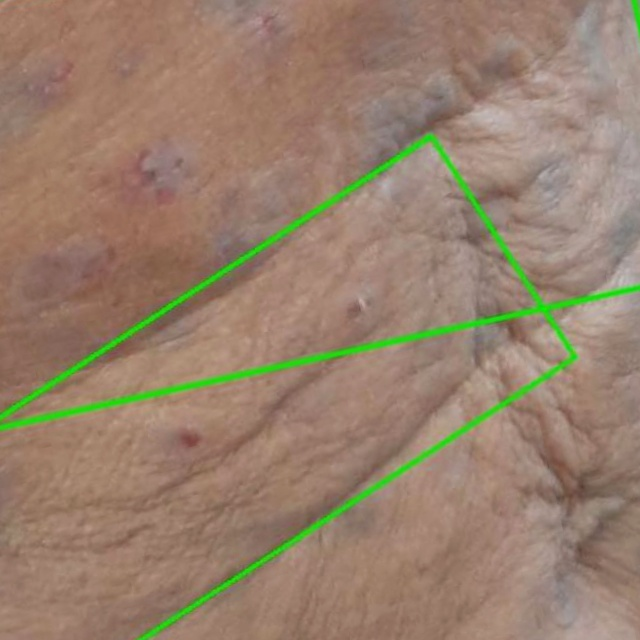Contact Dermatitis: (0, 136, 585, 639), (0, 0, 639, 427)
